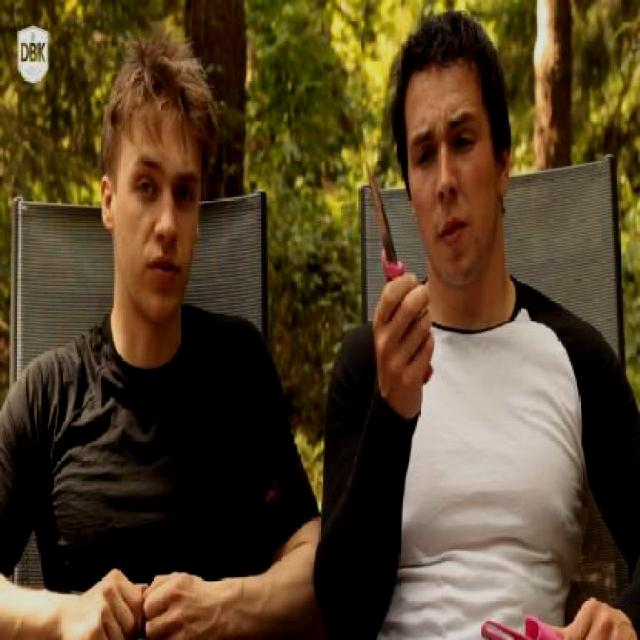knife: (358, 144, 436, 344)
